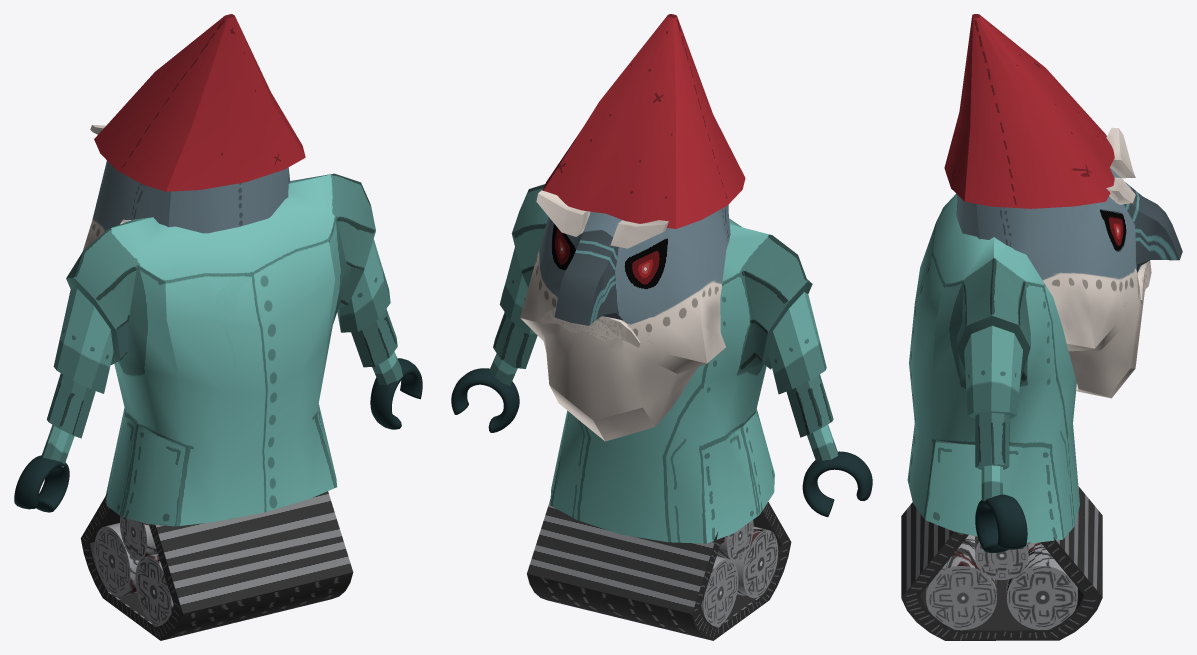
Rendered from Gnomo_v6.fbx.
3 renders of one model, left to right at view 1: azimuth 30°, elevation 25°; view 2: azimuth 150°, elevation 25°; view 3: azimuth 270°, elevation 25°, orthographic. The views are drawn at different scales.
Parts seen in each view (by area): view 1: Cuelpo, Cabeza, Rueda, Rueda.001, Manos; view 2: Cabeza, Cuelpo, Rueda, Rueda.001, Manos; view 3: Cabeza, Cuelpo, Rueda, Rueda.001, Manos.
Boxes of the visible parts, x1,y1,x2,y2 form: Cuelpo: (41,173,402,526); Cabeza: (83,14,305,250); Rueda: (80,491,353,640); Rueda.001: (94,516,173,626); Manos: (14,358,422,512); Cabeza: (520,14,745,441); Cuelpo: (490,184,837,543); Rueda: (527,498,791,640); Rueda.001: (701,520,778,626); Manos: (451,368,872,517); Cabeza: (944,14,1182,398); Cuelpo: (907,193,1079,542); Rueda: (901,486,1102,640); Rueda.001: (926,535,1077,630); Manos: (975,494,1027,552).
Bounding box in the file's own units: 21.75 × 29.7 × 12.98.
